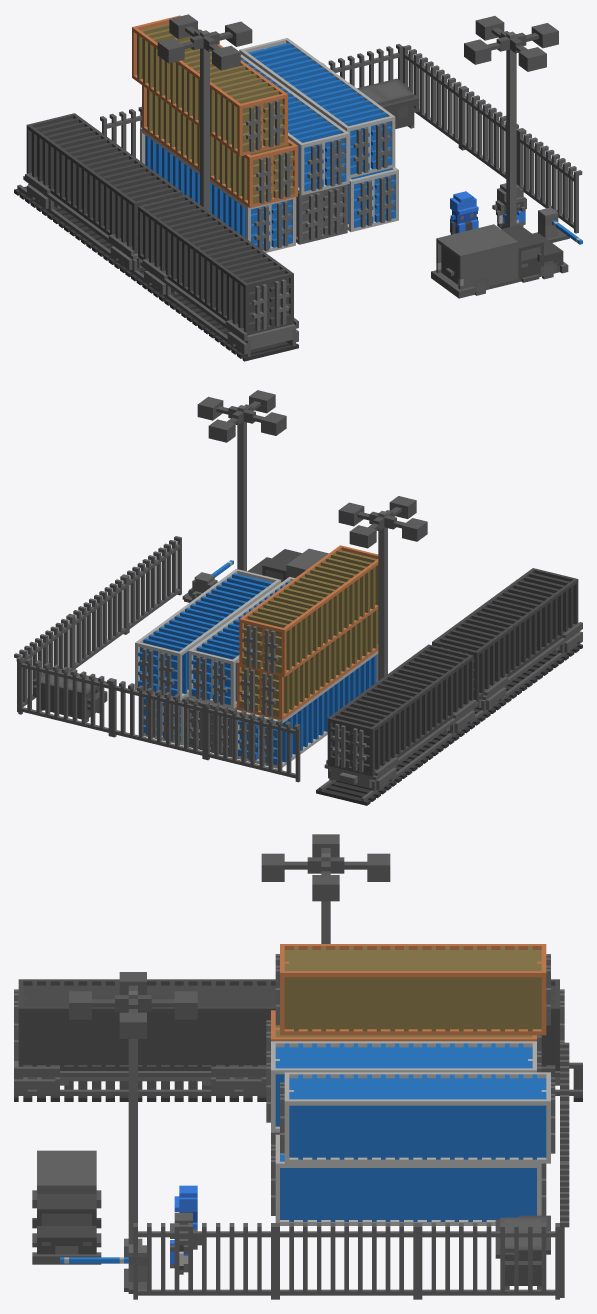
Rendered from scene_depot.obj.
The picture shows the model from 3 angles, top to bottom: view 1: azimuth 30°, elevation 25°; view 2: azimuth 150°, elevation 25°; view 3: azimuth 270°, elevation 25°; orthographic projection. The views are drawn at different scales.
Bounding box in the file's own units: 120 × 64 × 124.
